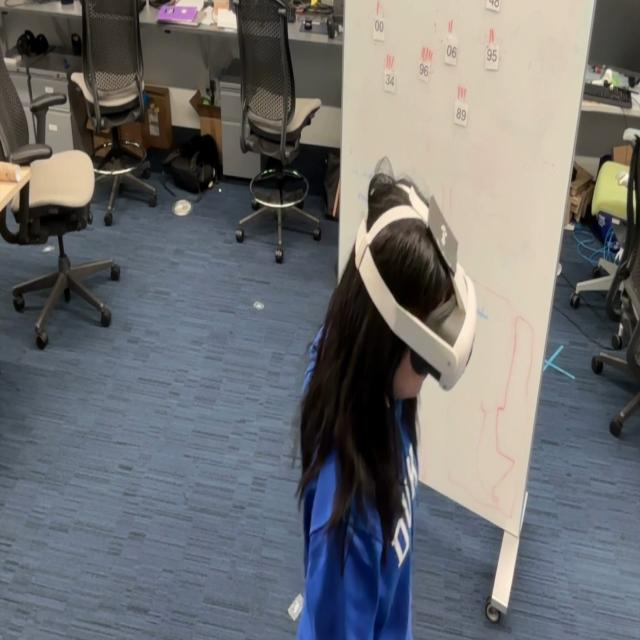Headset: (353, 170, 478, 392)
UnityLogo: (425, 192, 460, 276)
